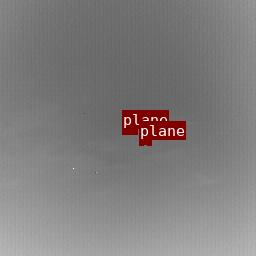plane: (122, 129, 137, 134), (139, 140, 151, 144)
